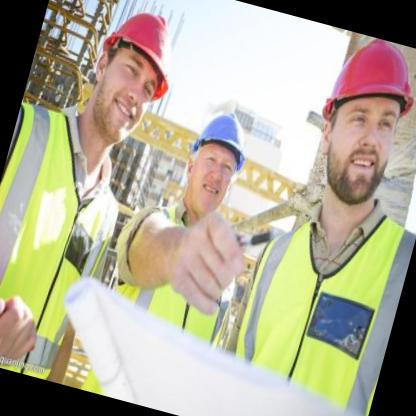helmet: (290, 27, 416, 221), (65, 1, 199, 162), (167, 88, 267, 231)
